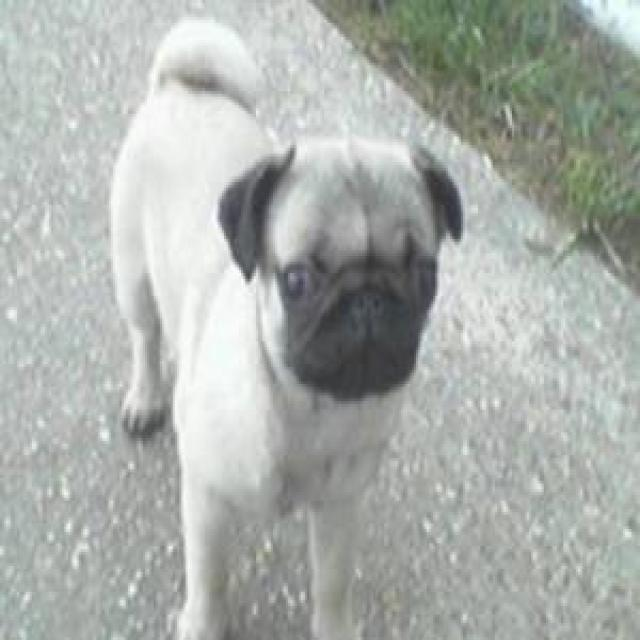dog-pug: (96, 14, 461, 634)
